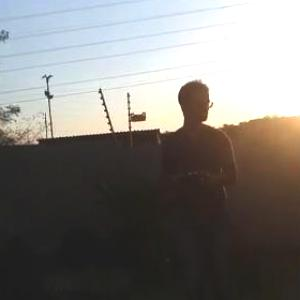follow: (155, 75, 241, 299)
